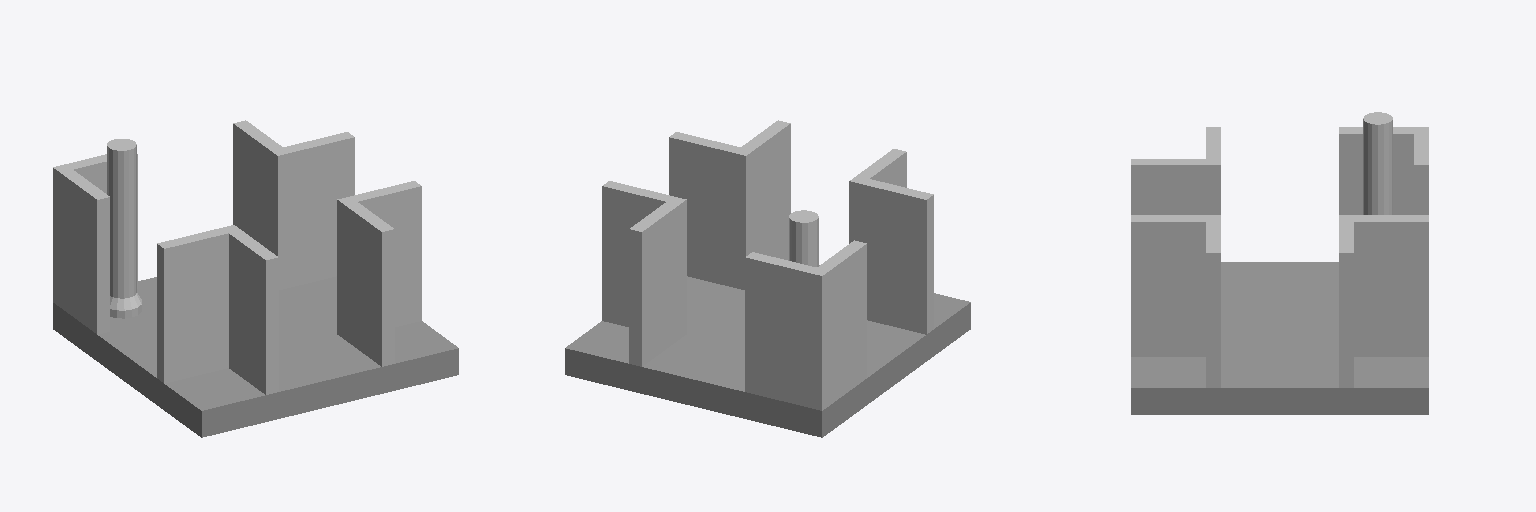
Rendered from hybrid-intersection-3_2.obj.
3 renders of one model, left to right at view 1: azimuth 30°, elevation 25°; view 2: azimuth 150°, elevation 25°; view 3: azimuth 270°, elevation 25°, orthographic.
Parts seen in each view (by area): view 1: Cube.002_Cube.010, Cube, Cylinder_Cylinder.001; view 2: Cube.002_Cube.010, Cube, Cylinder_Cylinder.001; view 3: Cube.002_Cube.010, Cube, Cylinder_Cylinder.001.
Boxes of the visible parts, <box> form: Cube.002_Cube.010: <box>53,120,421,394</box>; Cube: <box>53,276,458,437</box>; Cylinder_Cylinder.001: <box>107,139,141,318</box>; Cube.002_Cube.010: <box>602,120,933,410</box>; Cube: <box>565,260,970,437</box>; Cylinder_Cylinder.001: <box>789,210,818,266</box>; Cube.002_Cube.010: <box>1131,127,1428,387</box>; Cube: <box>1131,262,1428,414</box>; Cylinder_Cylinder.001: <box>1363,112,1392,214</box>.
Bounding box in the file's own units: 10 × 7.13 × 10.